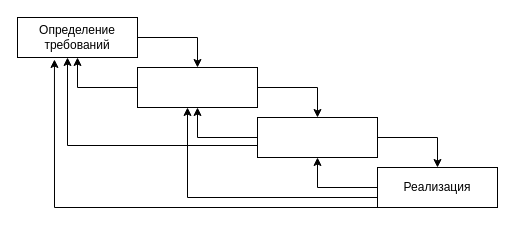
The diagram is 515 pixels wide and 233 high, and some of its shapes have lost their labels. The box of each missing label's shape, as (x1, y1, x2, y2) in pixels:
Анализ требований: (136, 66, 258, 108)
Проектирование архитектуры: (256, 116, 378, 158)
